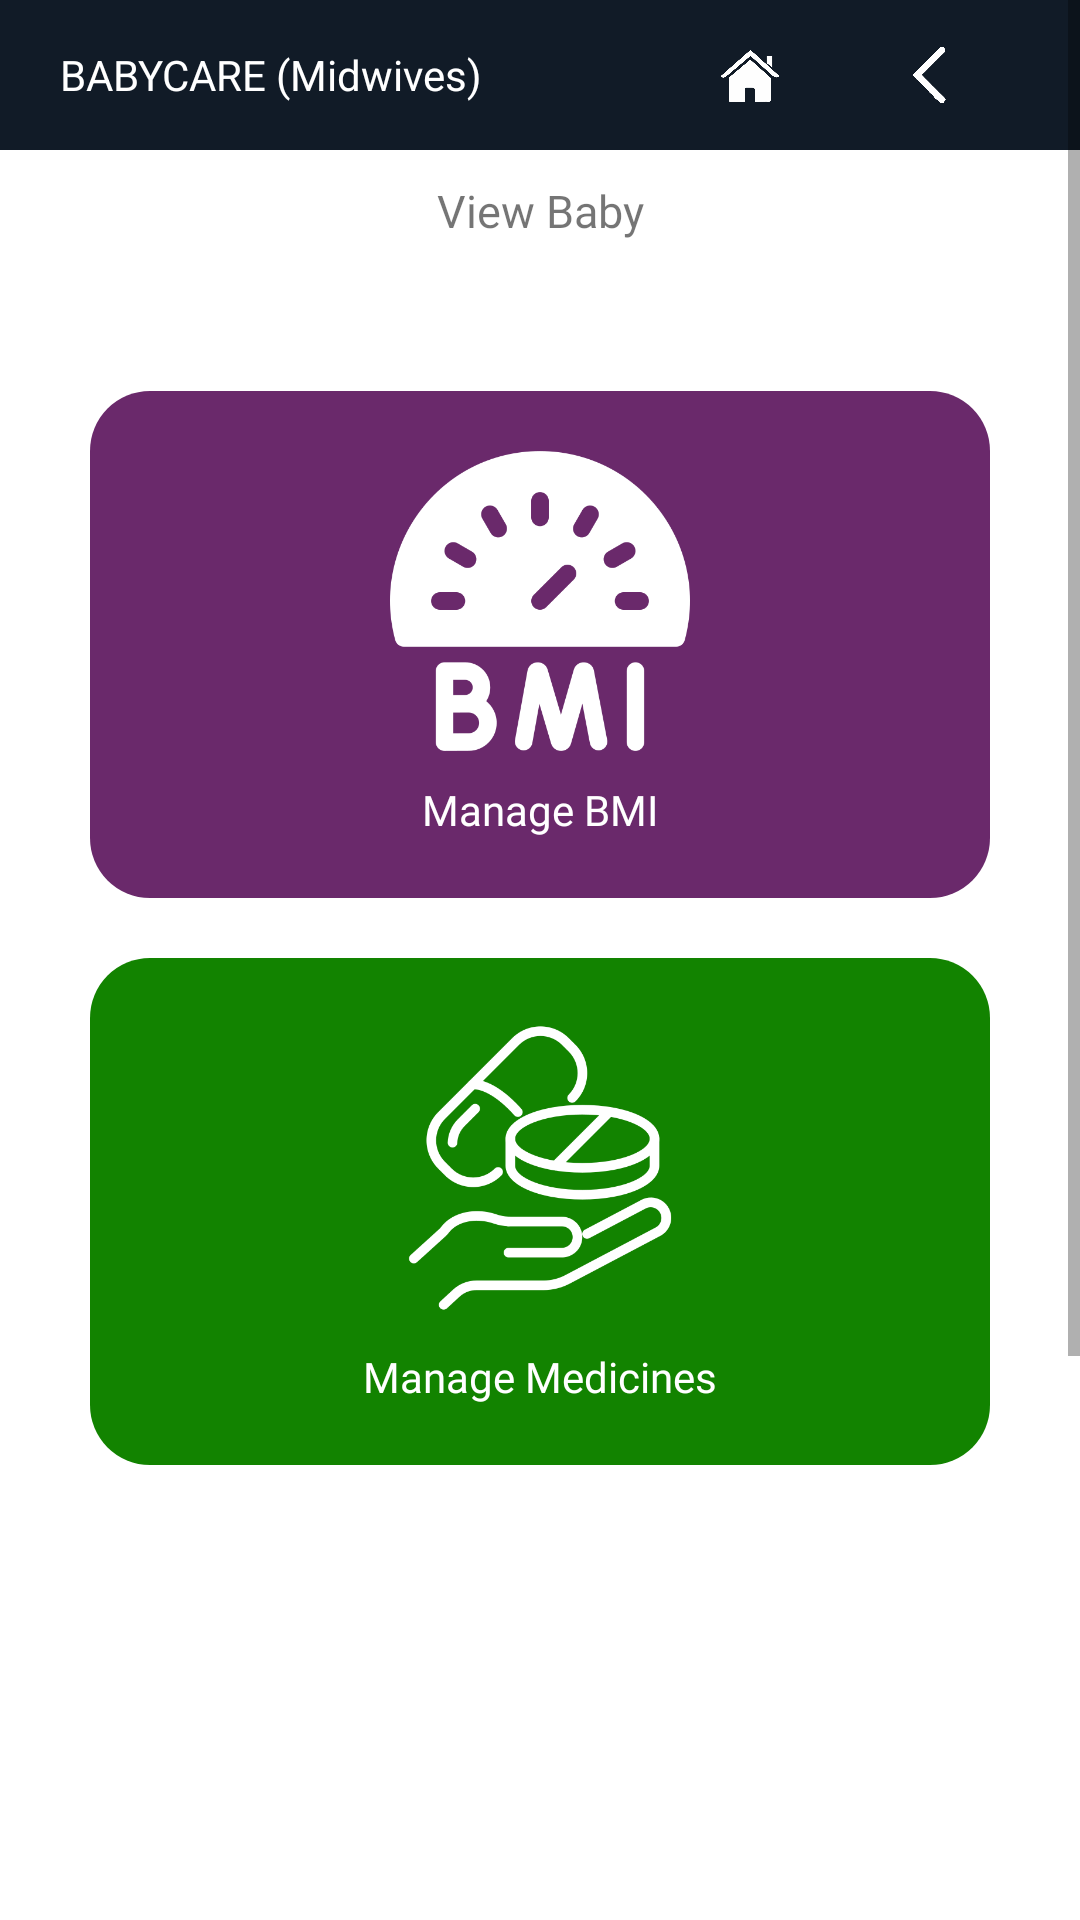

Screen size 1080w x 1920h. Icon name, then its center in pixels as point (x, y):
back: point (929, 75)
home: point (750, 76)
